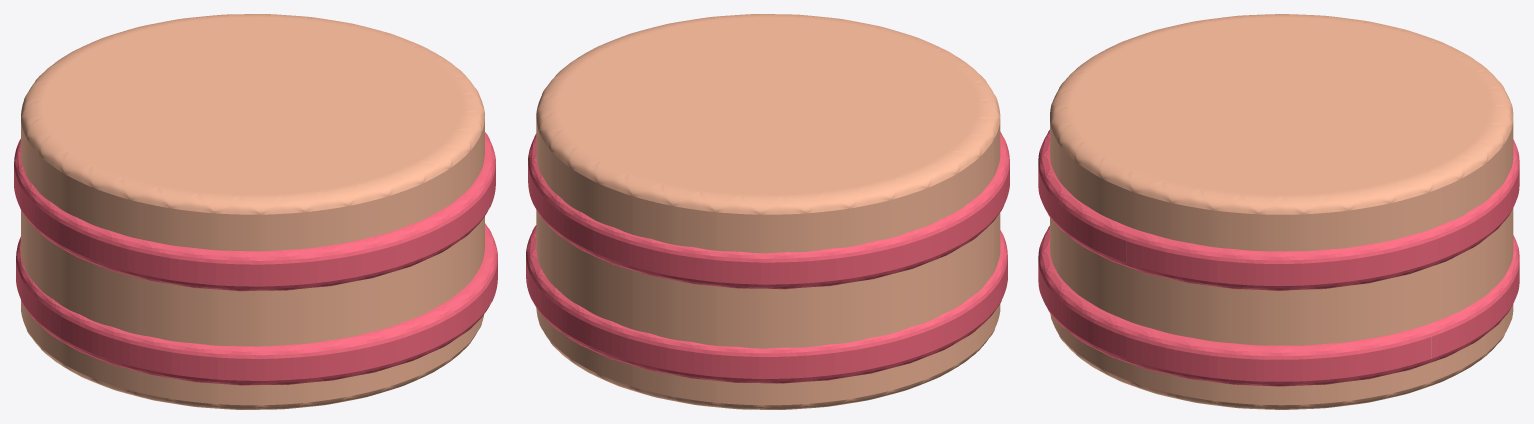
Rendered from bolocilindro morango.glb.
3 renders of one model, left to right at view 1: azimuth 30°, elevation 25°; view 2: azimuth 150°, elevation 25°; view 3: azimuth 270°, elevation 25°, orthographic.
Parts seen in each view (by area): view 1: Cylinder.003, Cylinder.001, Cylinder.000; view 2: Cylinder.003, Cylinder.001, Cylinder.000; view 3: Cylinder.003, Cylinder.000, Cylinder.001.
Boxes of the visible parts, box(x1,y1,x2,y2) form: Cylinder.003: box(21, 14, 484, 409); Cylinder.001: box(14, 132, 495, 291); Cylinder.000: box(16, 223, 497, 385); Cylinder.003: box(536, 14, 1000, 409); Cylinder.001: box(528, 132, 1009, 289); Cylinder.000: box(526, 225, 1007, 383); Cylinder.003: box(1050, 14, 1513, 409); Cylinder.000: box(1038, 226, 1519, 386); Cylinder.001: box(1038, 130, 1519, 290).
Size of the model in its own units: 2.7 by 1.3 by 2.68.
